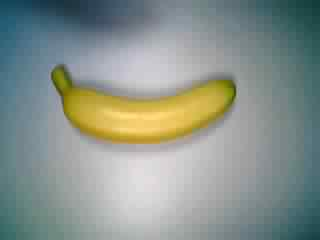banana: (49, 63, 240, 147)
